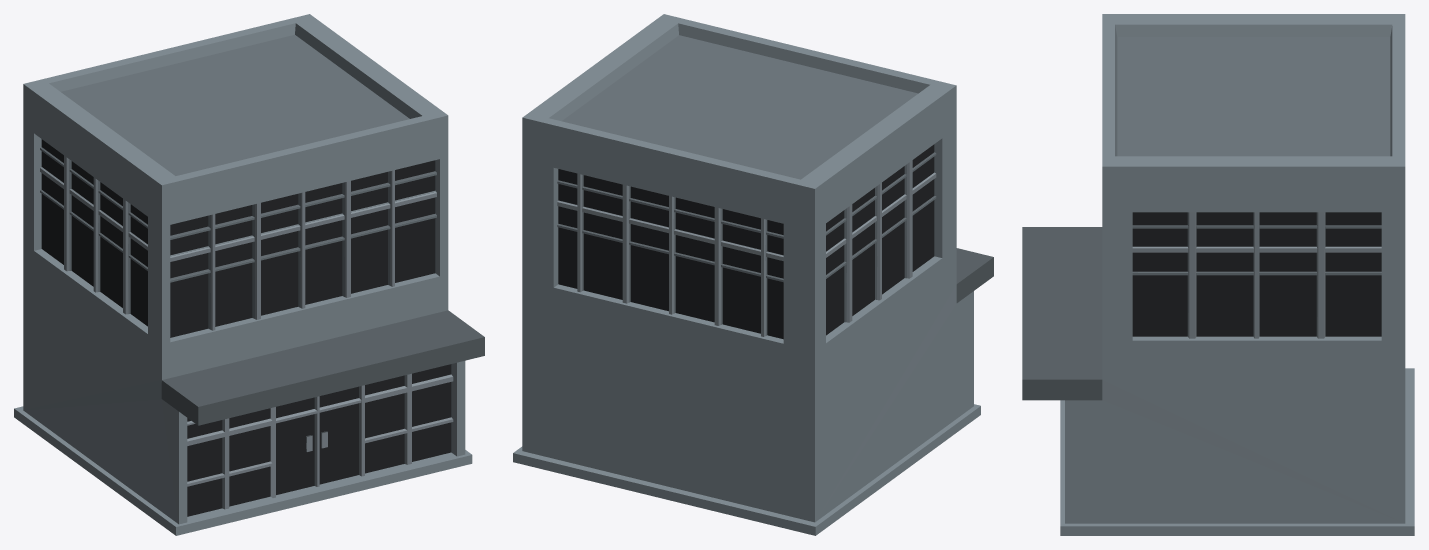
Rendered from SM_Gen_Bld_Background_01.glb.
The picture shows the model from 3 angles, left to right: view 1: azimuth 30°, elevation 25°; view 2: azimuth 150°, elevation 25°; view 3: azimuth 270°, elevation 25°; orthographic projection. The views are drawn at different scales.
Parts seen in each view (by area): view 1: SM_Gen_Bld_Background_01; view 2: SM_Gen_Bld_Background_01; view 3: SM_Gen_Bld_Background_01.
Part boxes in pixels (x1,y1,x2,y2): SM_Gen_Bld_Background_01: (14, 14, 484, 535); SM_Gen_Bld_Background_01: (513, 14, 993, 535); SM_Gen_Bld_Background_01: (1022, 14, 1414, 535).
Size of the model in its own units: 8.24 by 8.91 by 8.64.
2 materials, 2 textured.
